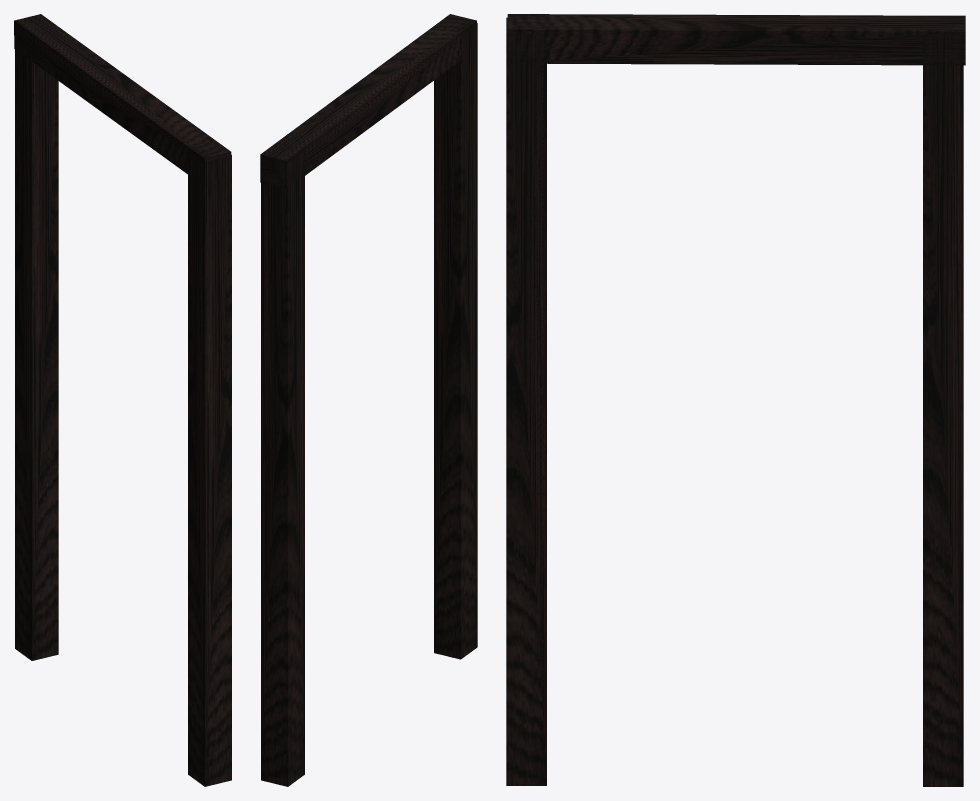
File: door.obj
The picture shows the model from 3 angles, left to right: view 1: azimuth 30°, elevation 25°; view 2: azimuth 150°, elevation 25°; view 3: azimuth 270°, elevation 25°; orthographic projection. The views are drawn at different scales.
Parts seen in each view (by area): view 1: door; view 2: door; view 3: door.
Boxes of the visible parts, <box> form: door: <box>14,14,231,786</box>; door: <box>260,14,477,786</box>; door: <box>506,14,965,786</box>.
Size of the model in its own units: 1.16 by 25.89 by 14.24.
1 material, 1 textured.
